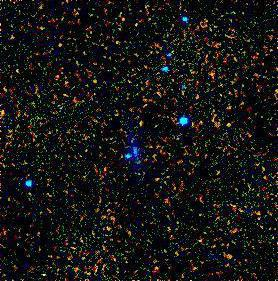star: (115, 144, 145, 174)
